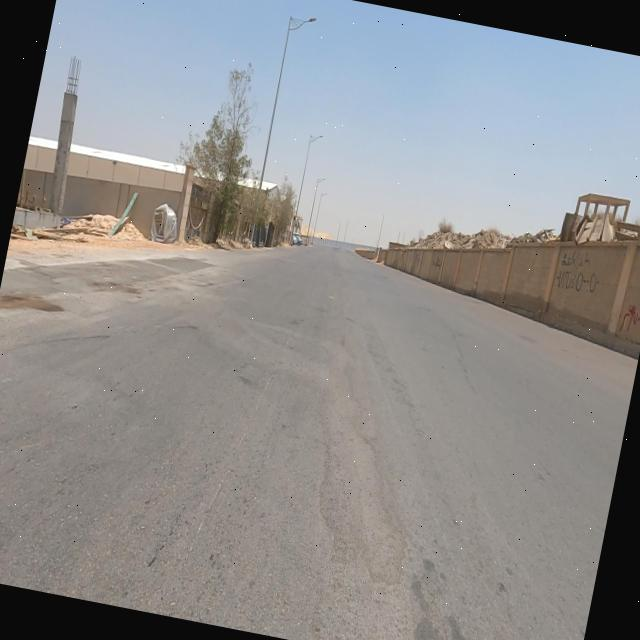Graffiti: (554, 246, 607, 299), (618, 260, 640, 340), (432, 258, 445, 272)
